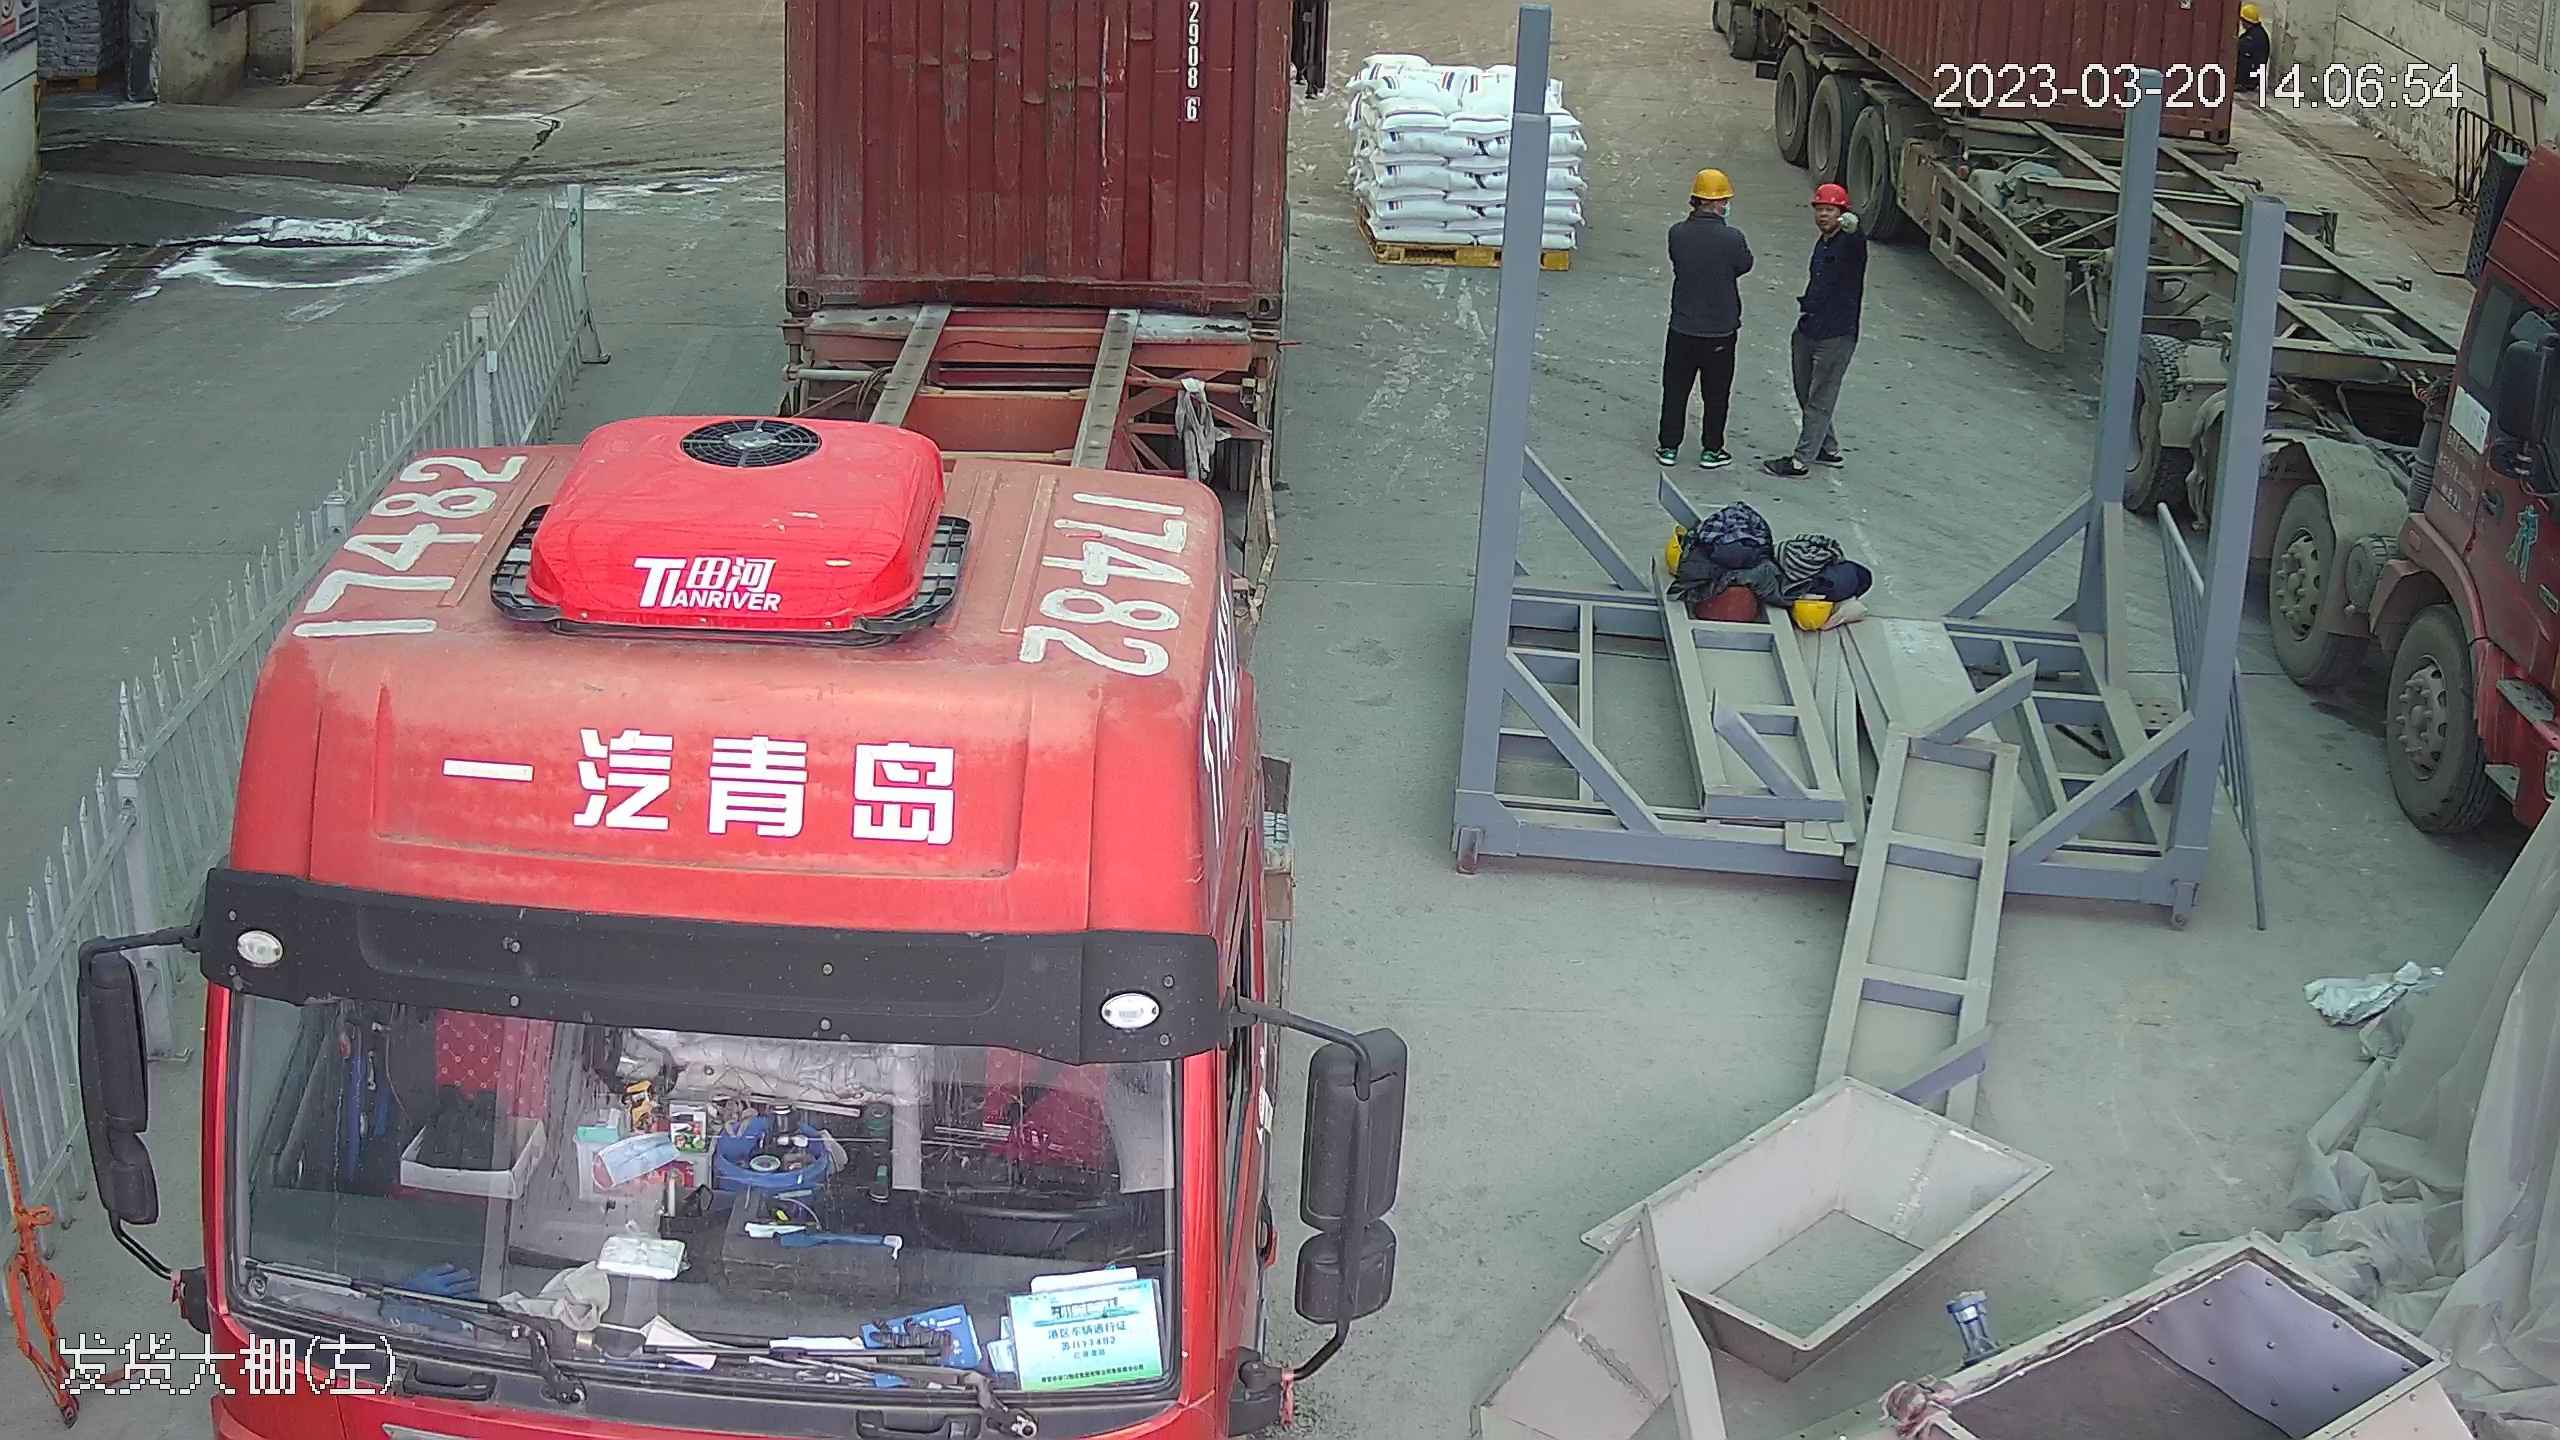head: (1668, 165, 1750, 260), (1804, 177, 1865, 272)
helmet: (1690, 166, 1735, 198), (1810, 178, 1850, 208)
people: (1652, 163, 1756, 462), (1767, 175, 1868, 479)
truck: (68, 0, 1306, 1440), (2220, 66, 2560, 874)
